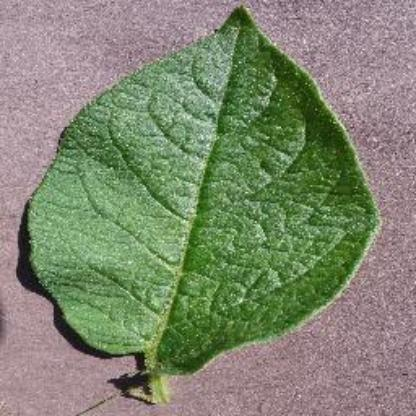Healthy-plant: (21, 5, 398, 386)
